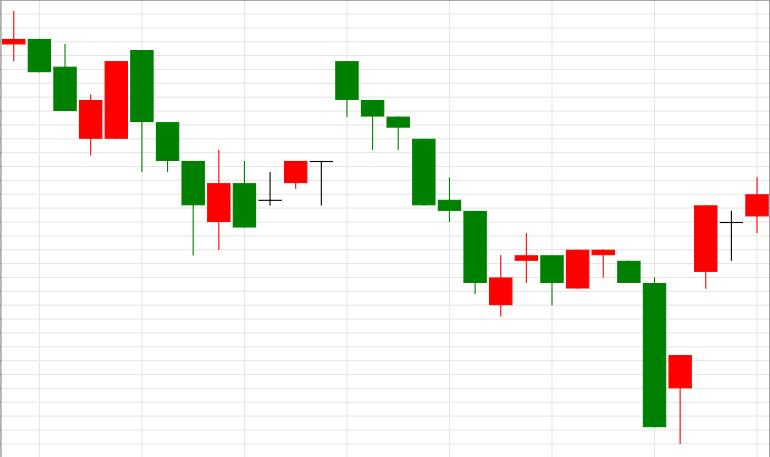hammer_rise: (335, 61, 691, 444)
